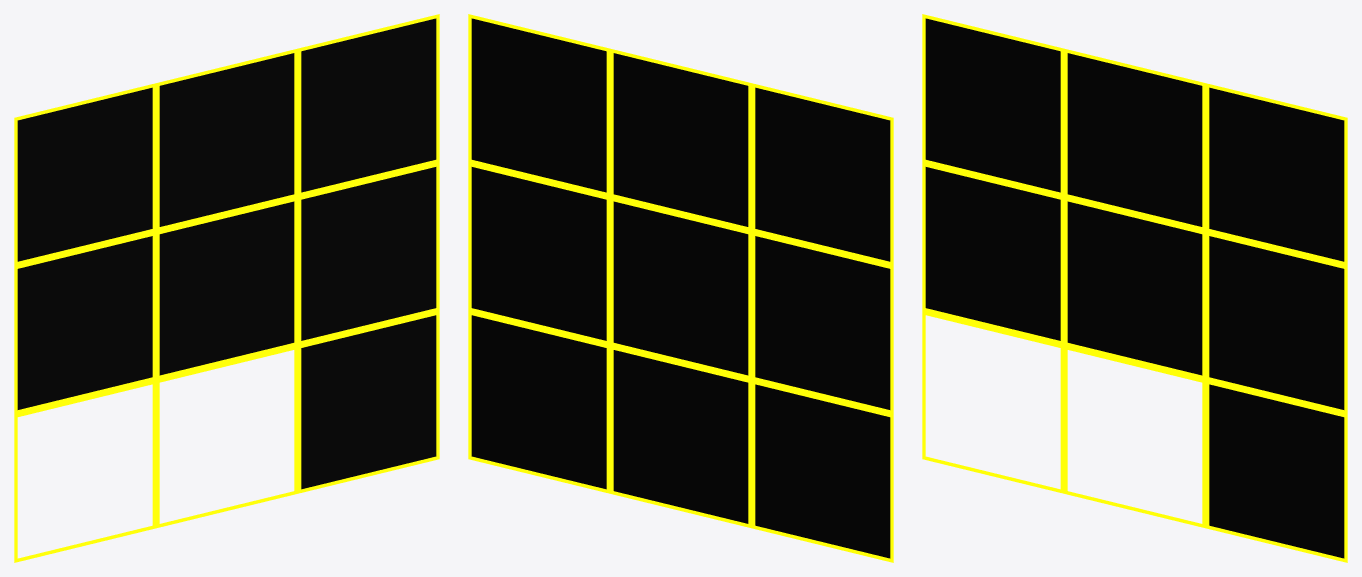
Rendered from mdl_zesty_condo_screen.gltf.
3 renders of one model, left to right at view 1: azimuth 30°, elevation 25°; view 2: azimuth 150°, elevation 25°; view 3: azimuth 330°, elevation 25°, orthographic.
Parts seen in each view (by area): view 1: mdl_zesty_condo_screen; view 2: mdl_zesty_condo_screen; view 3: mdl_zesty_condo_screen.
Boxes of the visible parts, x1,y1,x2,y2 form: mdl_zesty_condo_screen: (14,14,439,562); mdl_zesty_condo_screen: (468,14,893,562); mdl_zesty_condo_screen: (922,14,1347,562).
Size of the model in its own units: 1 by 1 by 3.7e-07.
